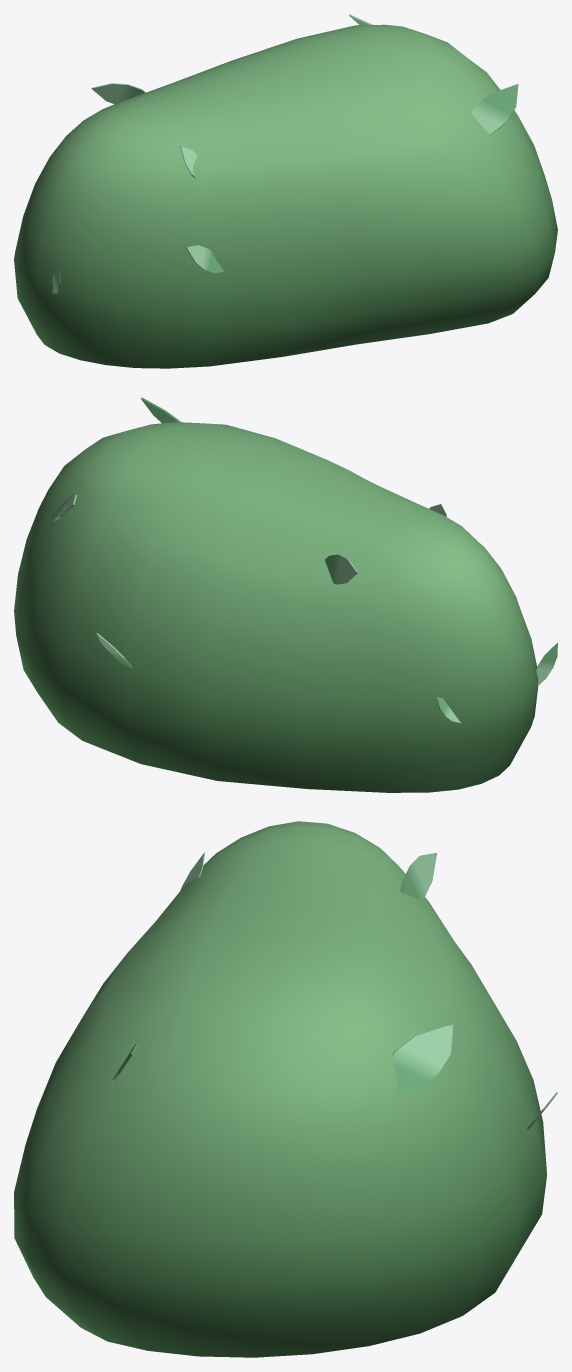
Rendered from SM_Bush.fbx.
The picture shows the model from 3 angles, top to bottom: view 1: azimuth 30°, elevation 25°; view 2: azimuth 150°, elevation 25°; view 3: azimuth 270°, elevation 25°; orthographic projection. The views are drawn at different scales.
Visible parts, largest first — view 1: SM_Bush; view 2: SM_Bush; view 3: SM_Bush.
Part boxes in pixels (<box>): SM_Bush: <box>14,14,557,368</box>; SM_Bush: <box>14,397,557,792</box>; SM_Bush: <box>14,821,557,1357</box>.
Size of the model in its own units: 389 by 179 by 277.
